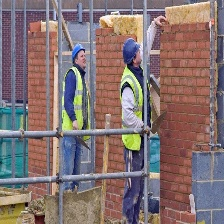helmet: (120, 36, 139, 64), (70, 43, 86, 59)
person: (117, 37, 153, 224), (60, 39, 93, 190)
vest: (121, 64, 153, 156), (63, 67, 93, 144)
